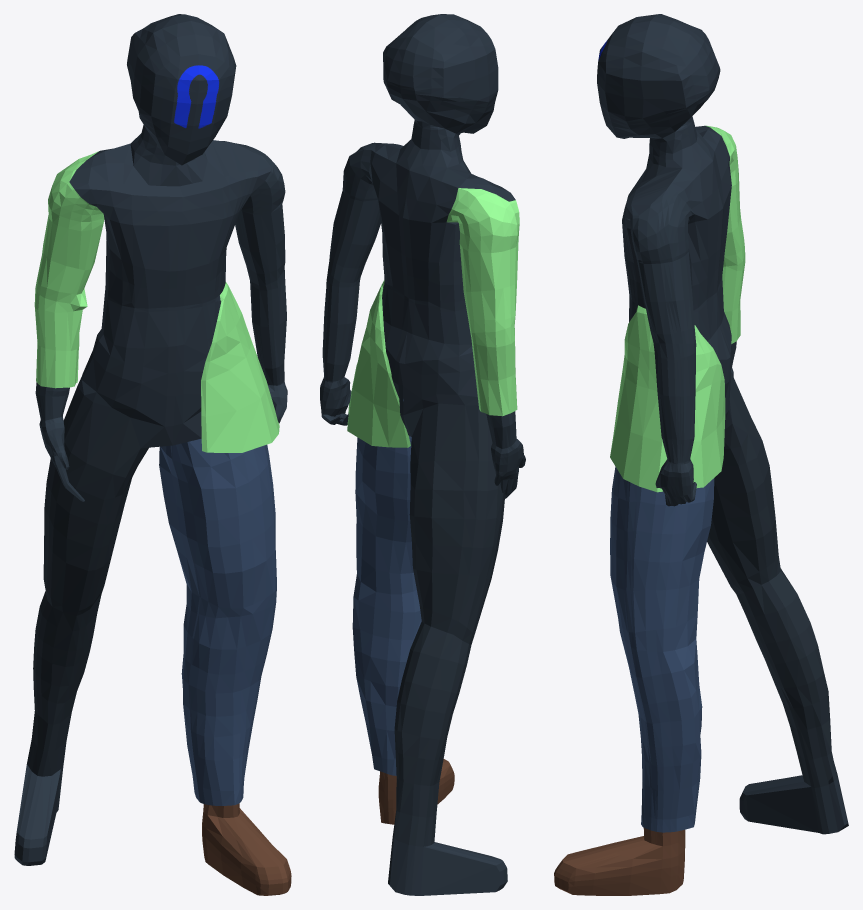
Rendered from Mar_Recover_000013.obj.
The picture shows the model from 3 angles, left to right: view 1: azimuth 30°, elevation 25°; view 2: azimuth 150°, elevation 25°; view 3: azimuth 270°, elevation 25°; orthographic projection. The views are drawn at different scales.
Parts seen in each view (by area): view 1: Cube.000_Cube.001; view 2: Cube.000_Cube.001; view 3: Cube.000_Cube.001.
Boxes of the visible parts, x1,y1,x2,y2 form: Cube.000_Cube.001: (14,14,291,895); Cube.000_Cube.001: (320,14,525,895); Cube.000_Cube.001: (554,14,848,895).
Bounding box in the file's own units: 1.1 × 3.92 × 1.24.
